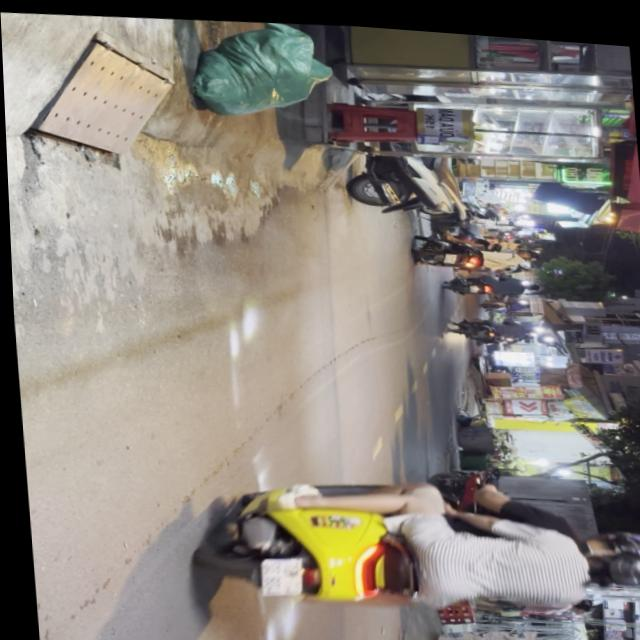helmet: (579, 538, 640, 583), (581, 518, 640, 554)
licenseplate: (182, 448, 640, 633)
nohelmet: (255, 552, 300, 593)
